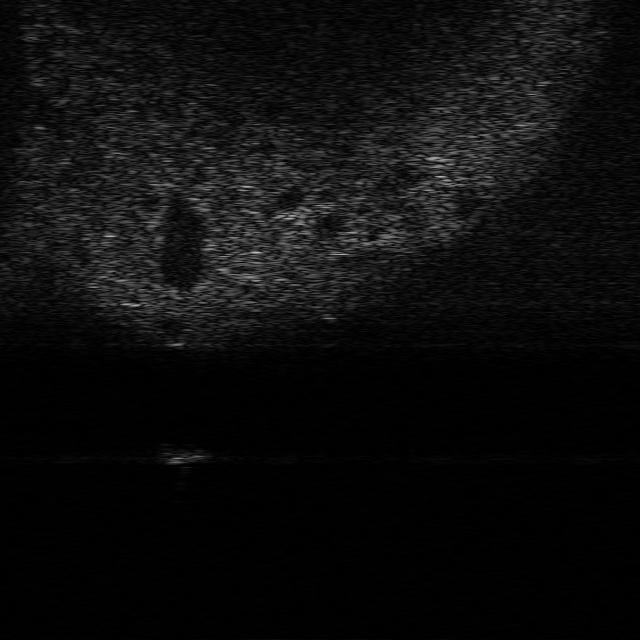ball: (316, 297, 352, 319)
cube: (159, 444, 211, 466)
